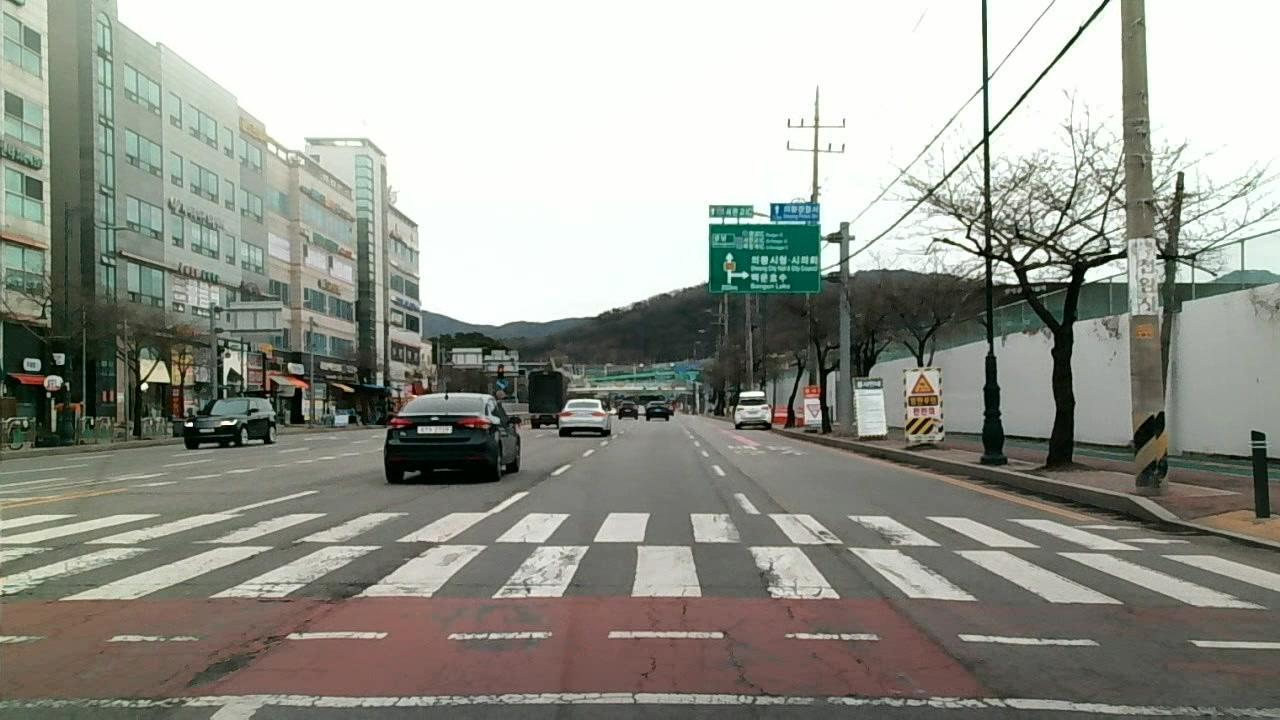banner: (188, 580, 394, 682), (611, 588, 762, 678), (774, 501, 879, 596), (681, 686, 915, 710), (940, 648, 1016, 705)
